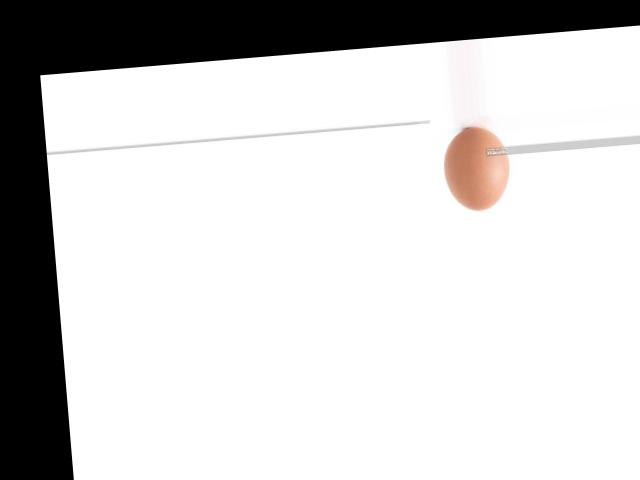egg: (441, 126, 513, 213)
